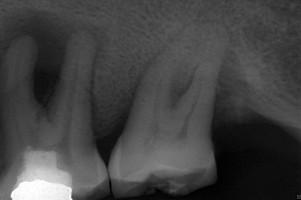Dental Caries: (0, 7, 109, 108)
